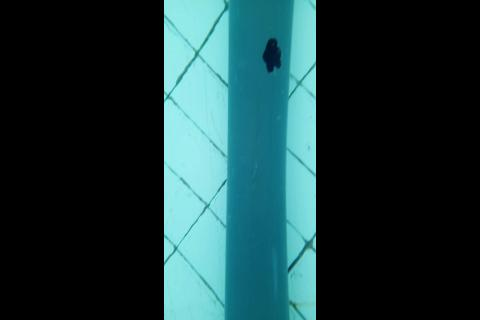kebocoran: (263, 35, 282, 74)
